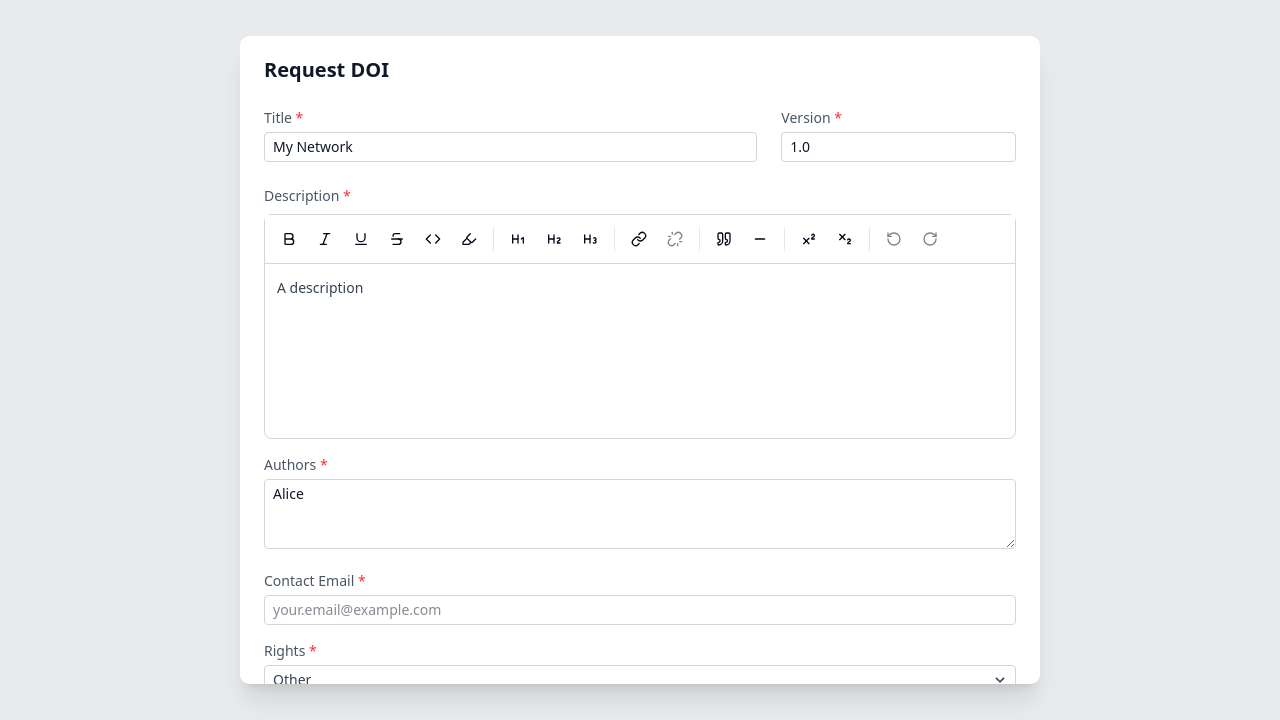
Test: CreateDOIDialog › confirmation before the request is filed › does not contact the server until the user confirms
This screenshot has width=1280, height=720.
Type "alice@example.com" into the field with placeholder "your.email@example.com" at (640, 610), box [264,595,1016,625]
(page scrolled)
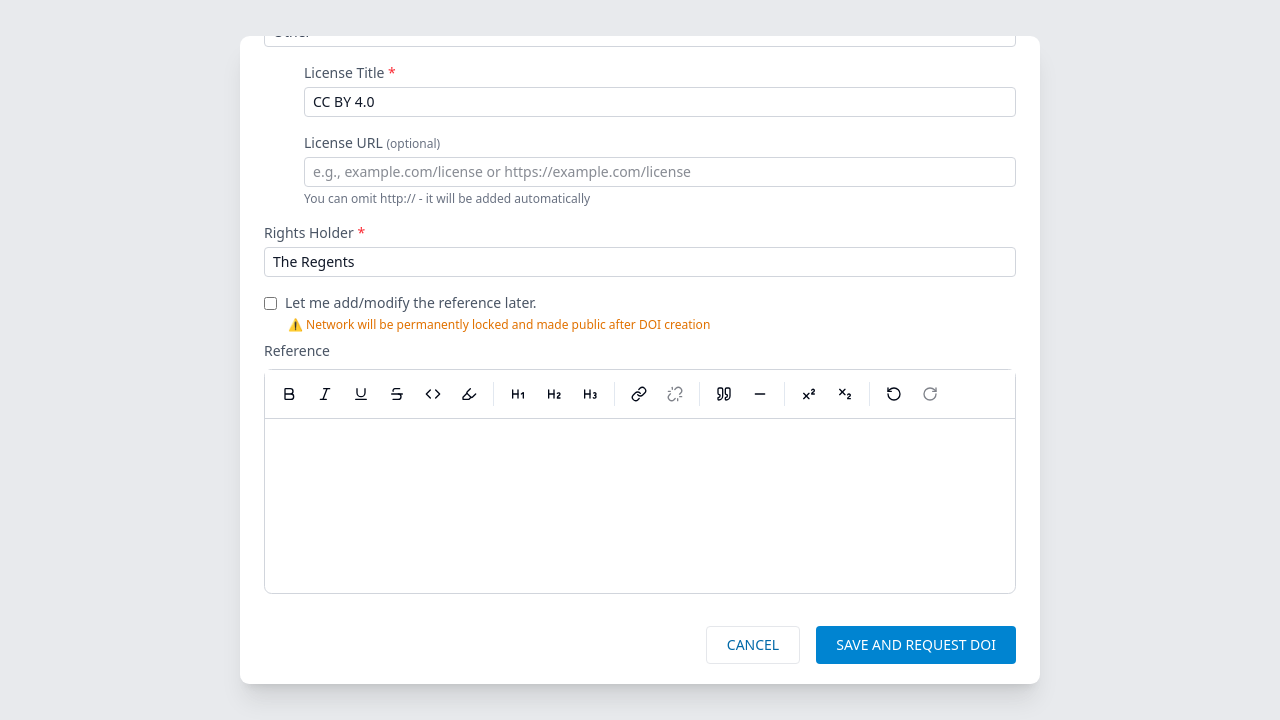
Click the button "SAVE AND REQUEST DOI" at (916, 645), box [816,626,1016,664]
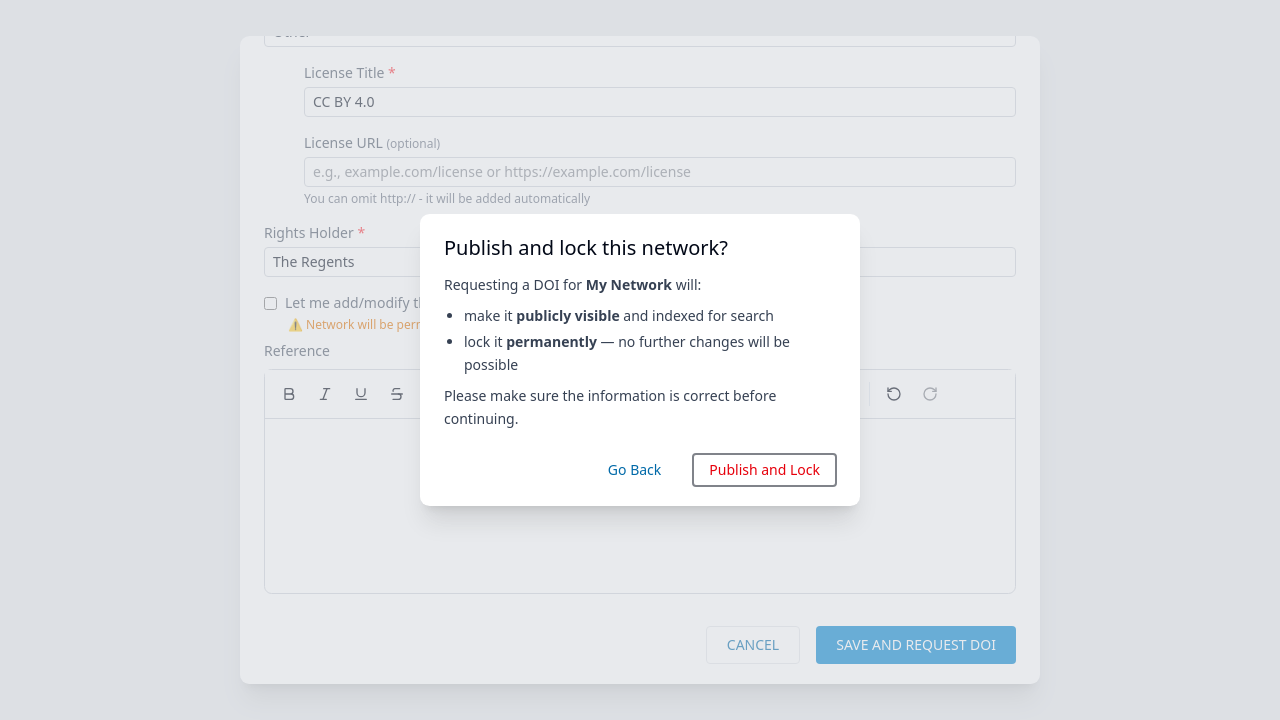
Result: the heading "Publish and lock this network?" is shown at [444,234,728,261]
